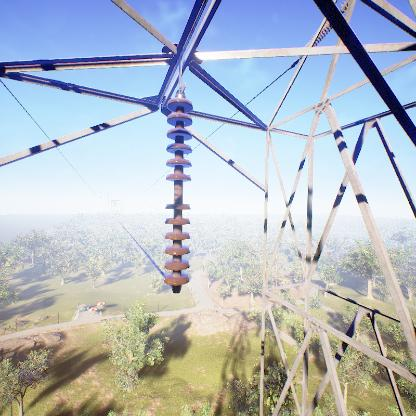insulator: (159, 96, 196, 294)
